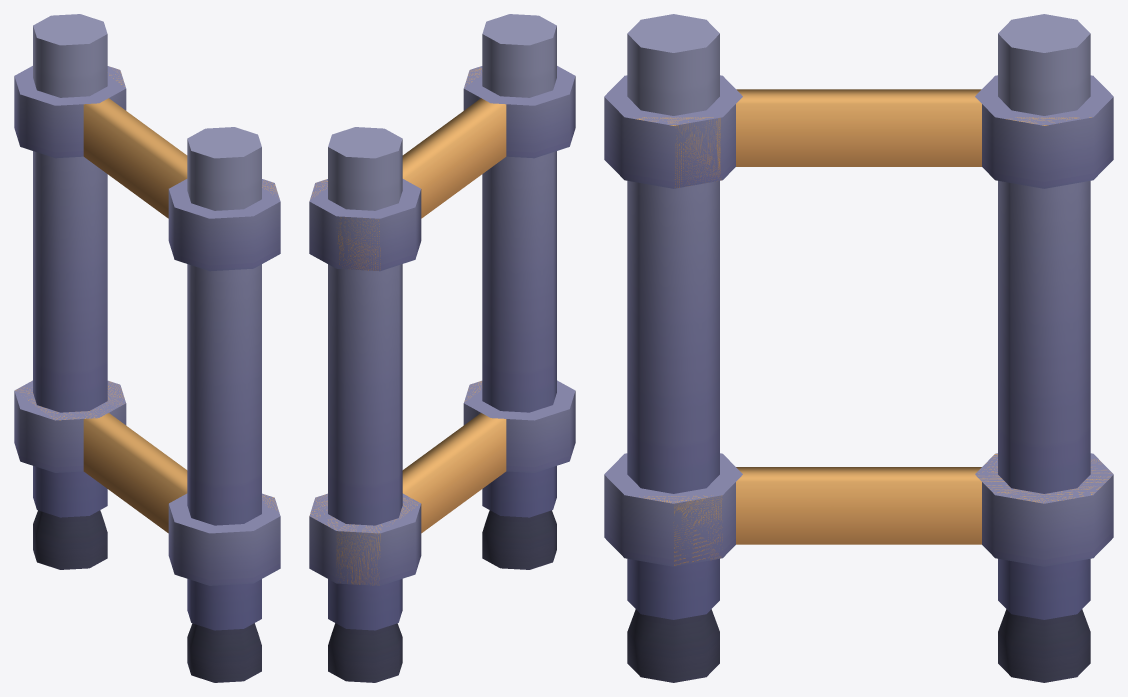
The model's file is structure-yellow-high.glb.
3 views of the same model, side by side, from view 1: azimuth 30°, elevation 25°; view 2: azimuth 150°, elevation 25°; view 3: azimuth 270°, elevation 25° (orthographic). The views are drawn at different scales.
Parts seen in each view (by area): view 1: structure-yellow-high; view 2: structure-yellow-high; view 3: structure-yellow-high.
Part boxes in pixels (left/top/right/bottom): structure-yellow-high: left=14, top=14, right=280, bottom=682; structure-yellow-high: left=309, top=14, right=575, bottom=682; structure-yellow-high: left=604, top=14, right=1113, bottom=682.
Size of the model in its own units: 0.2999 by 1.5 by 1.1.
Materials: 1 (1 with a texture image).
